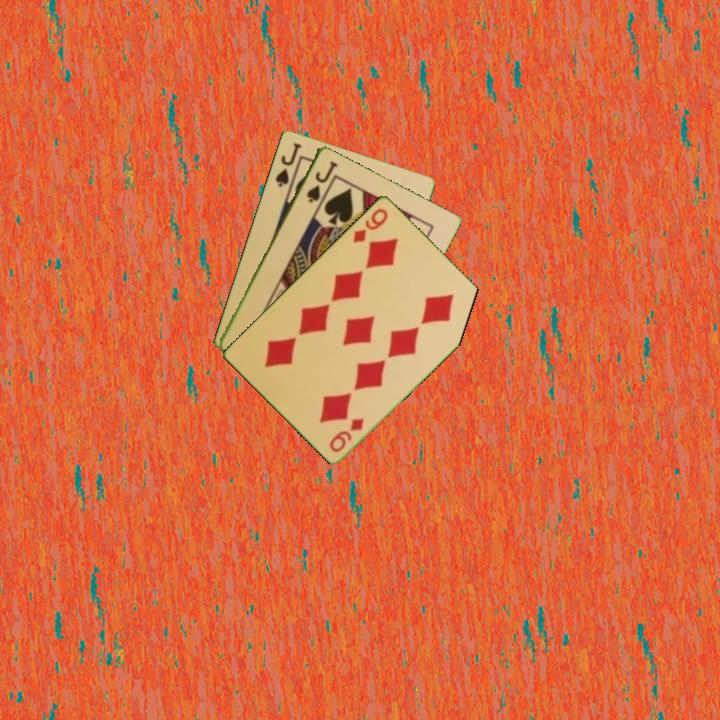9d: (349, 204, 391, 245), (326, 414, 367, 455)
Js: (303, 157, 339, 206), (272, 139, 305, 190)
